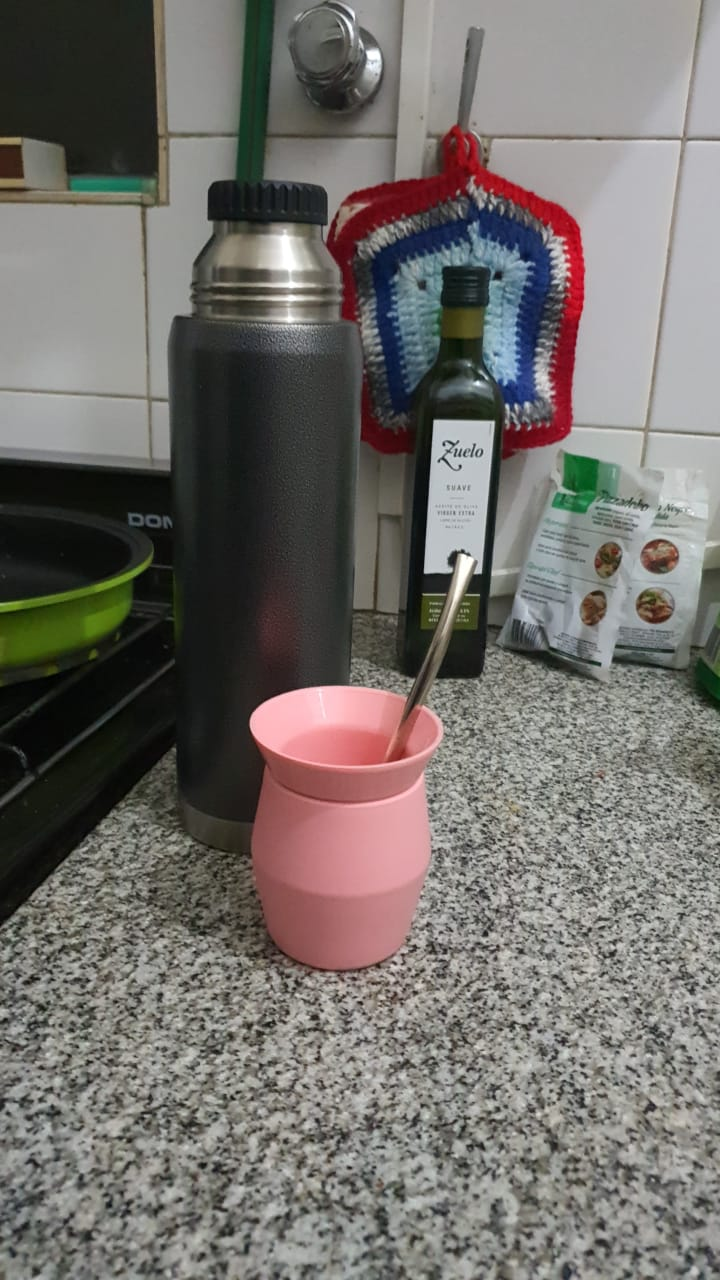mate: (210, 663, 490, 979)
plastico: (228, 682, 468, 978)
